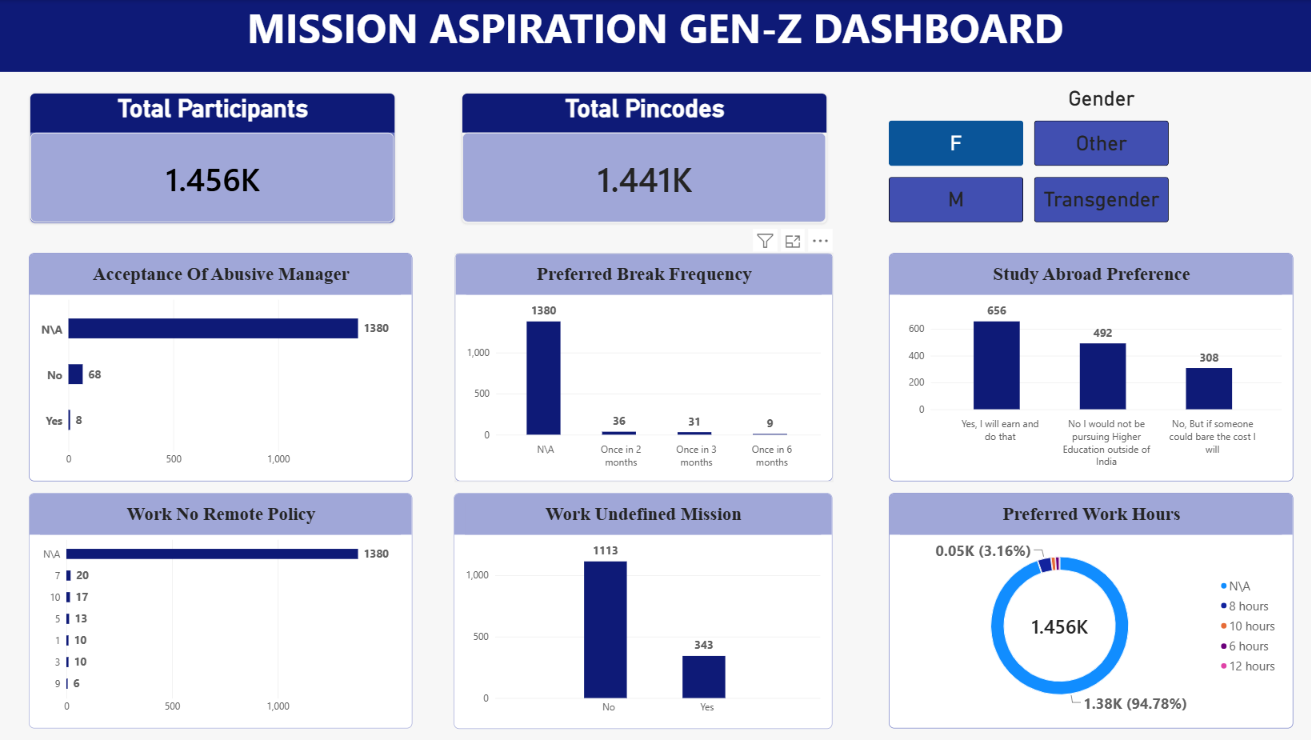

The page's visual inventory and layout, read from the dashboard file:
{"tool":"powerbi","page":{"name":"Mission Aspiration","canvas":[1920,1080],"ordinal":1},"visuals":[{"type":"textbox","box":[0,0,1920,105],"z":0},{"type":"cardVisual","title":"Total Participants","fields":{"Data":["CountNonNull(Form responses 1.Response_Timestamp)"]},"box":[47.5,135,532.5,190],"z":1000},{"type":"cardVisual","title":"Total Pincodes","fields":{"Data":["CountNonNull(Form responses 1.Zip_Code)"]},"box":[677.5,135,532.5,190],"z":2000},{"type":"advancedSlicerVisual","fields":{"Values":["Form responses 1.Gender"]},"box":[1300,125,620,200],"z":3000},{"type":"clusteredBarChart","title":"Acceptance Of Abusive Manager","fields":{"Category":["Form responses 1.Work_Abusive_Manager"],"Y":["CountNonNull(Form responses 1.Work_Abusive_Manager)"]},"box":[46.9,369.4,559.2,332.7],"z":4000},{"type":"clusteredColumnChart","title":"Preferred Break Frequency","fields":{"Category":["Form responses 1.Break_Frequency"],"Y":["CountNonNull(Form responses 1.Break_Frequency)"]},"box":[667.3,369.4,551,332.7],"z":5000},{"type":"clusteredColumnChart","title":"Study Abroad Preference","fields":{"Category":["Form responses 1.Pursue_Higher_Edu_Abroad"],"Y":["CountNonNull(Form responses 1.Pursue_Higher_Edu_Abroad)"]},"box":[1300,369.4,589.8,332.7],"z":6000},{"type":"clusteredBarChart","title":"Work No Remote Policy","fields":{"Category":["Form responses 1.Work_No_Remote_Policy"],"Y":["CountNonNull(Form responses 1.Work_No_Remote_Policy)"]},"box":[46.9,718.4,559.2,342.9],"z":7000},{"type":"clusteredColumnChart","title":"Work Undefined Mission","fields":{"Category":["Form responses 1.Work_Undefined_Mission"],"Y":["CountNonNull(Form responses 1.Work_Undefined_Mission)"]},"box":[666.9,718.4,551.6,343.7],"z":8000},{"type":"donutChart","title":"Preferred Work Hours","fields":{"Category":["Form responses 1.Daily_Work_Hours"],"Y":["CountNonNull(Form responses 1.Daily_Work_Hours)"]},"box":[1300,718.4,589.8,342.9],"z":9000}]}

Visuals, with their boxes in screenshot pixels (x1, y1, x2, y2), scaled from the page's 1920x1080 canvas onto the 1311x740 screenshot:
textbox: crop(0, 0, 1310, 72)
"Total Participants" cardVisual: crop(32, 92, 396, 223)
"Total Pincodes" cardVisual: crop(463, 92, 826, 223)
advancedSlicerVisual - Form responses 1.Gender: crop(888, 86, 1310, 223)
"Acceptance Of Abusive Manager" clusteredBarChart: crop(32, 253, 414, 481)
"Preferred Break Frequency" clusteredColumnChart: crop(456, 253, 832, 481)
"Study Abroad Preference" clusteredColumnChart: crop(888, 253, 1290, 481)
"Work No Remote Policy" clusteredBarChart: crop(32, 492, 414, 727)
"Work Undefined Mission" clusteredColumnChart: crop(455, 492, 832, 728)
"Preferred Work Hours" donutChart: crop(888, 492, 1290, 727)
